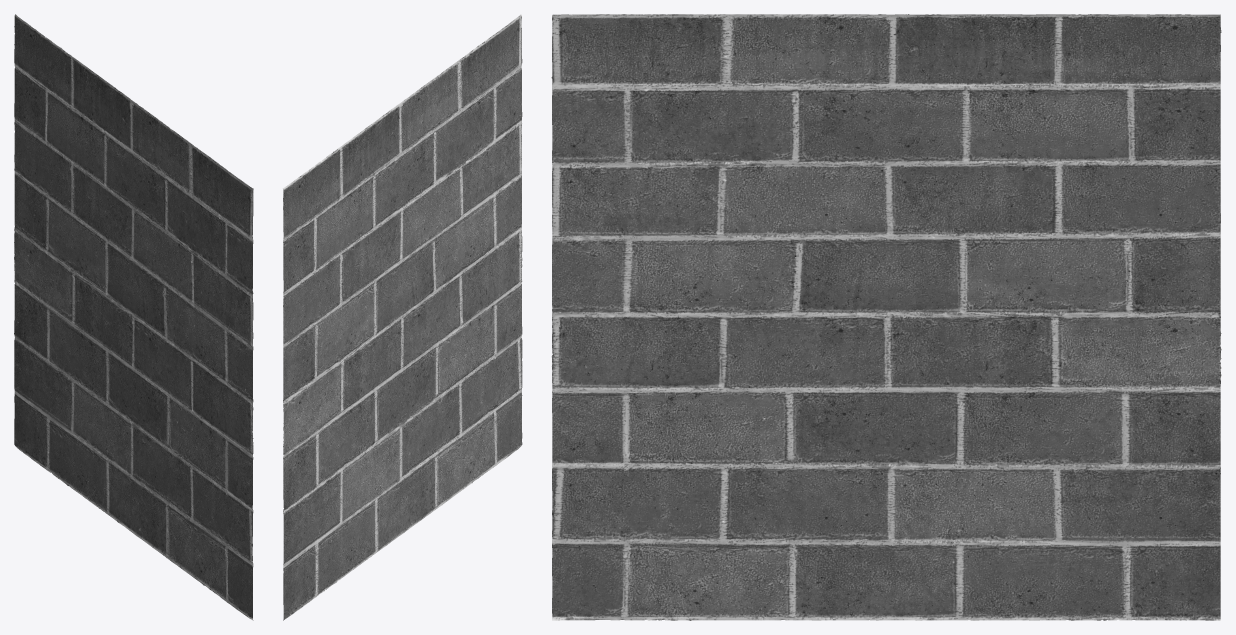
File: SM_Sewer_Wall_Cinder_01a.fbx
The picture shows the model from 3 angles, left to right: view 1: azimuth 30°, elevation 25°; view 2: azimuth 150°, elevation 25°; view 3: azimuth 270°, elevation 25°; orthographic projection. The views are drawn at different scales.
Visible parts, largest first — view 1: SM_Sewer_Wall_Cinder_01a_LOD0; view 2: SM_Sewer_Wall_Cinder_01a_LOD0; view 3: SM_Sewer_Wall_Cinder_01a_LOD0.
Boxes of the visible parts, x1,y1,x2,y2 form: SM_Sewer_Wall_Cinder_01a_LOD0: (14,14,253,620); SM_Sewer_Wall_Cinder_01a_LOD0: (282,14,522,620); SM_Sewer_Wall_Cinder_01a_LOD0: (551,14,1221,620).
Size of the model in its own units: 1.84 by 200 by 200.
